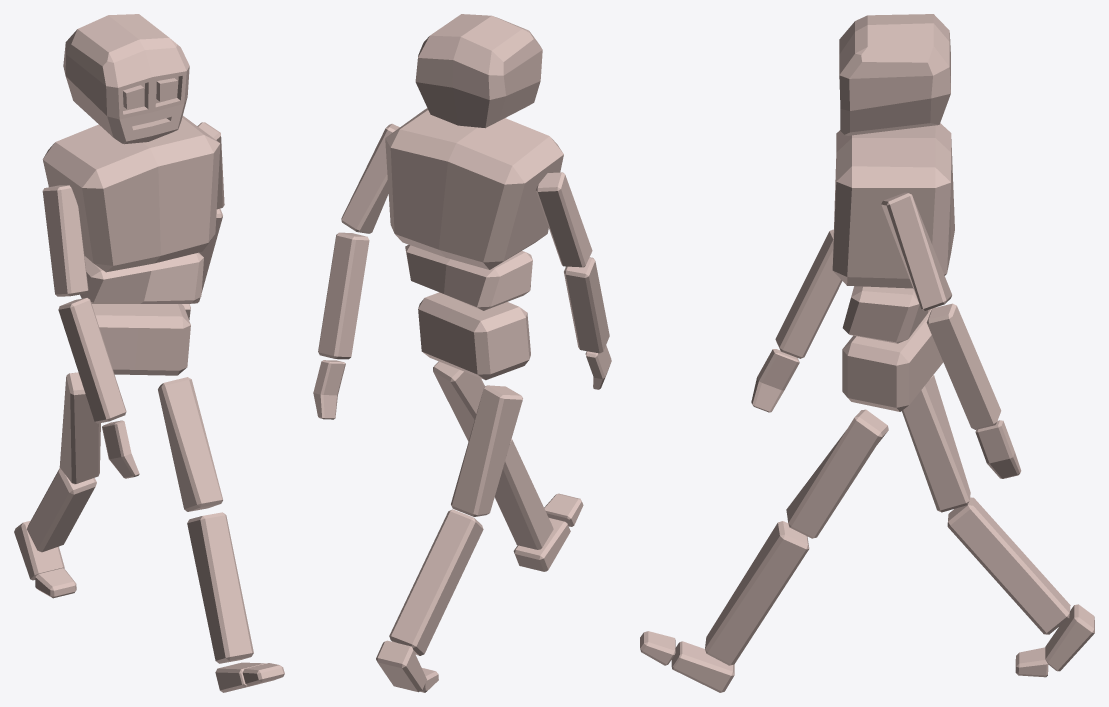
The model's file is robut.fbx.
3 renders of one model, left to right at view 1: azimuth 30°, elevation 25°; view 2: azimuth 150°, elevation 25°; view 3: azimuth 270°, elevation 25°, orthographic. The views are drawn at different scales.
Parts seen in each view (by area): view 1: Cube; view 2: Cube; view 3: Cube.
Part boxes in pixels (x1,y1,x2,y2): Cube: [14, 14, 284, 692]; Cube: [313, 14, 611, 692]; Cube: [640, 14, 1094, 692].
Size of the model in its own units: 70.43 by 200 by 127.
